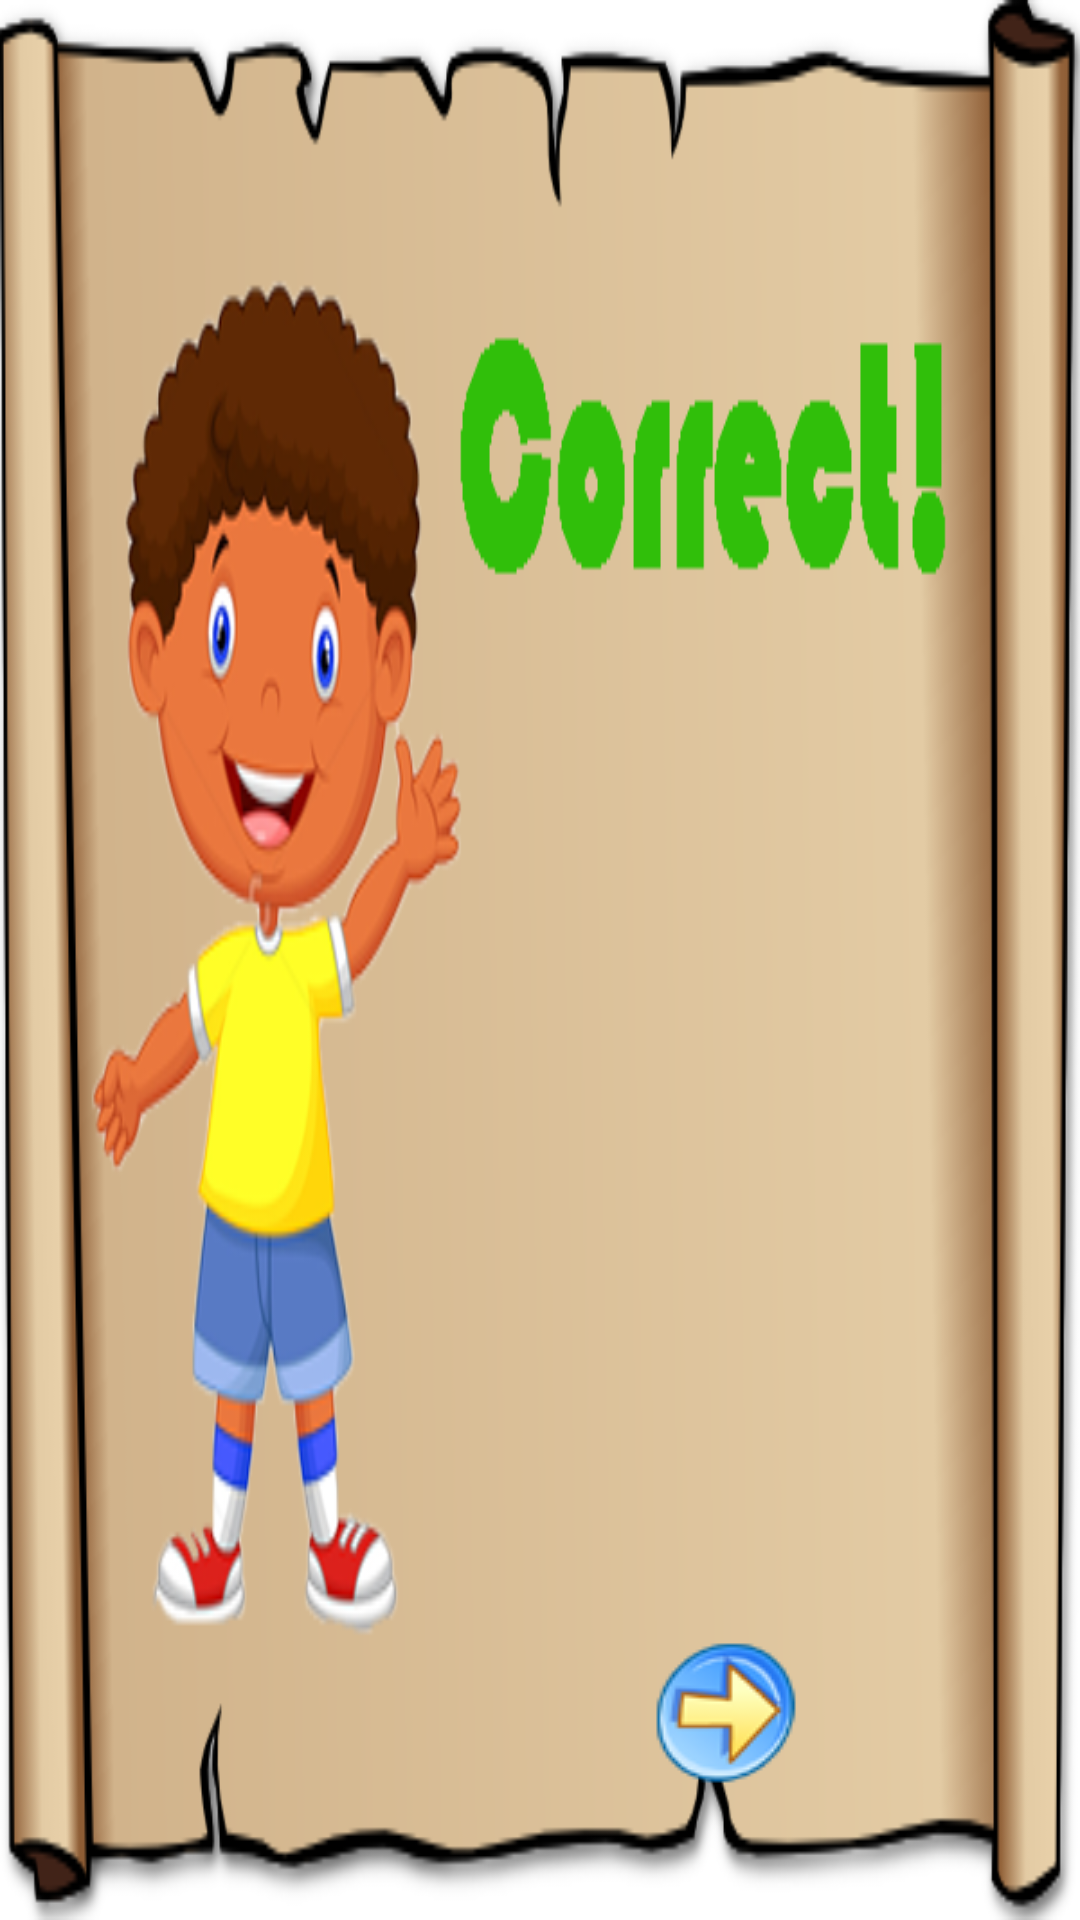

Screen size 1080x1920. Icon name, then its center in pixels as (x=x, y=y):
forward: (x=726, y=1714)
